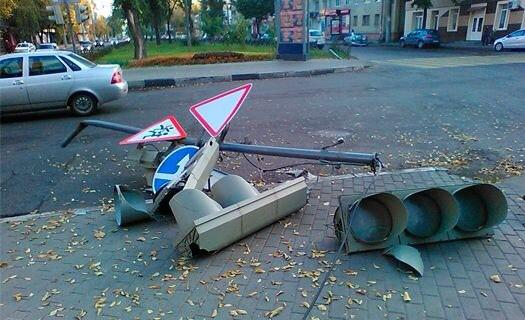obstructed_road_sign: (152, 146, 201, 194)
off traffic light: (168, 175, 308, 261), (337, 182, 508, 252), (47, 6, 64, 24), (75, 4, 89, 23)
road_sign: (189, 83, 253, 138), (119, 114, 187, 145)
